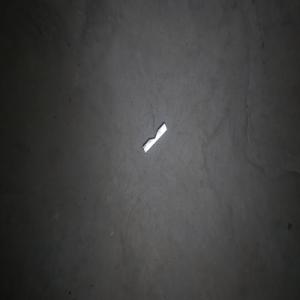ClampPart: (142, 122, 167, 155)
